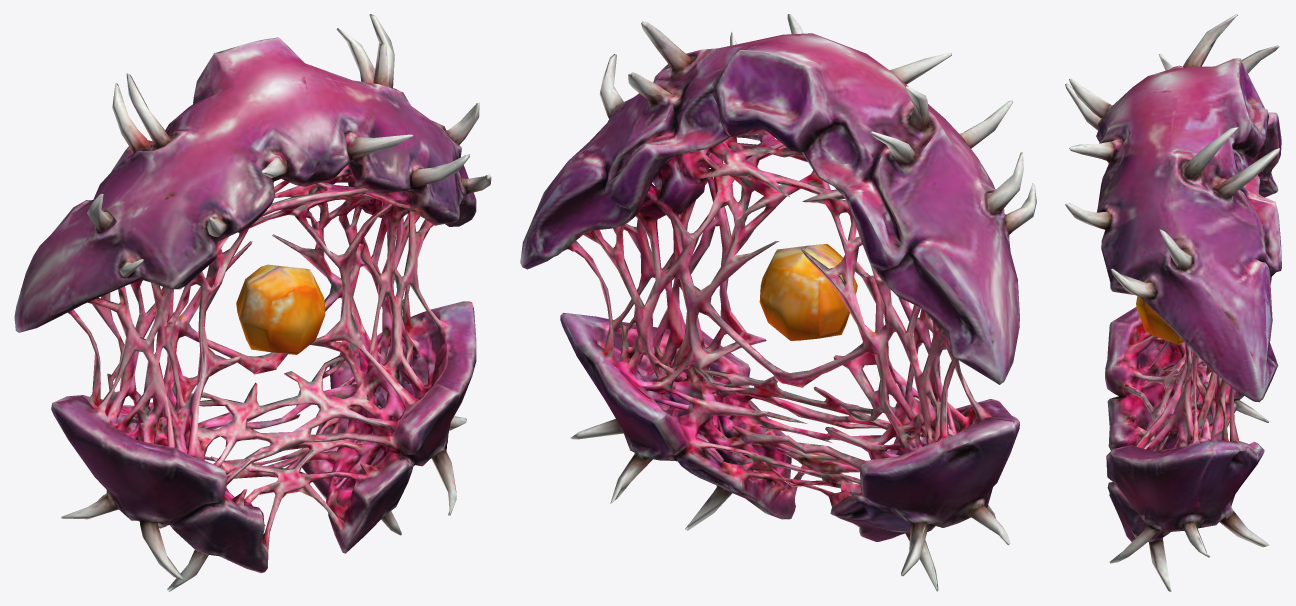
3 views of the same model, side by side, from view 1: azimuth 30°, elevation 25°; view 2: azimuth 150°, elevation 25°; view 3: azimuth 270°, elevation 25° (orthographic). The views are drawn at different scales.
Bounding box in the file's own units: 0.941 × 1 × 0.4204.
Materials: 1 (1 with a texture image).
